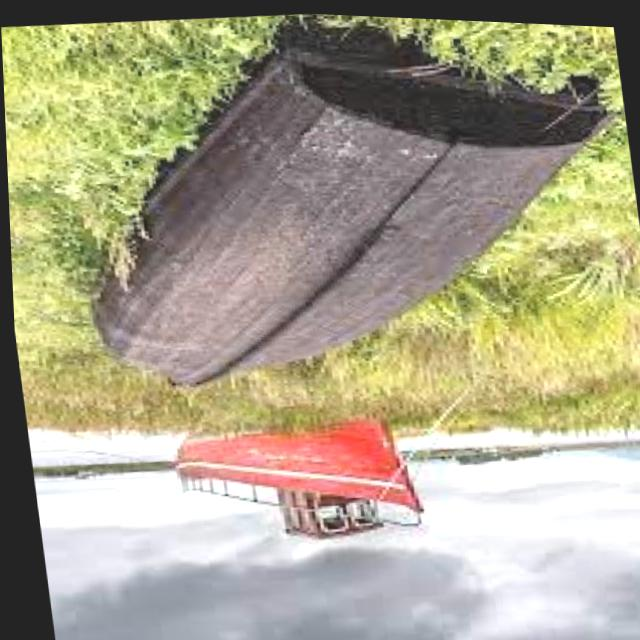ship2: (86, 11, 605, 384), (169, 411, 418, 534)
